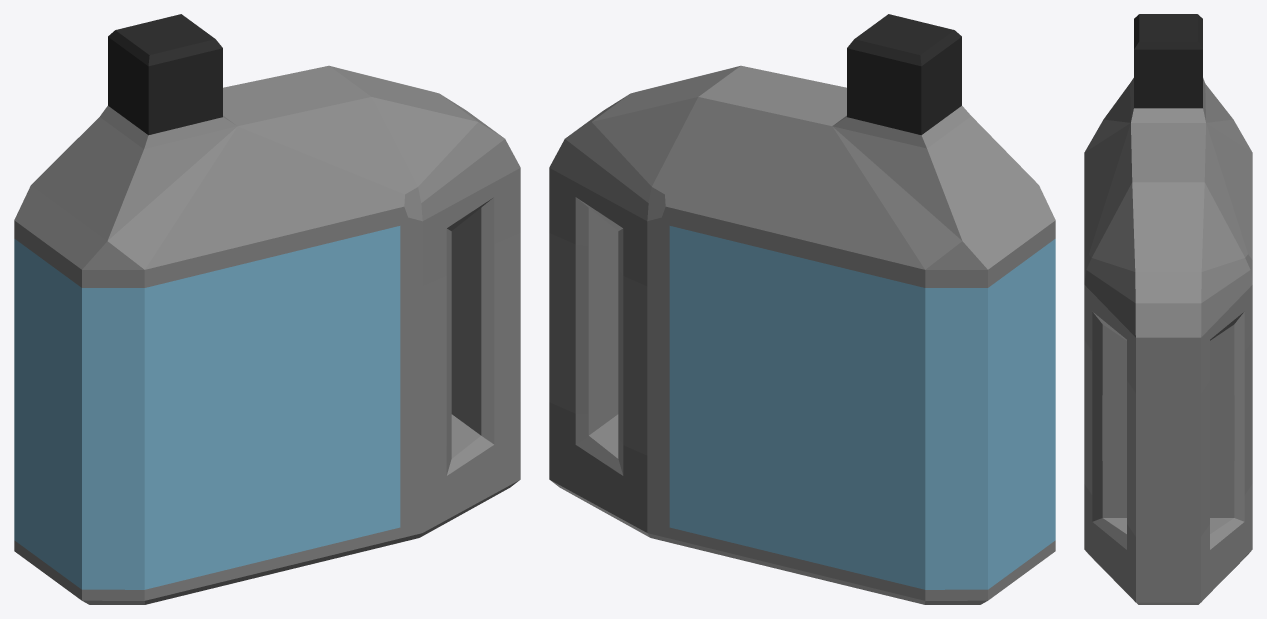
Rendered from Window Fluid Blue.fbx.
3 renders of one model, left to right at view 1: azimuth 30°, elevation 25°; view 2: azimuth 150°, elevation 25°; view 3: azimuth 270°, elevation 25°, orthographic. The views are drawn at different scales.
Visible parts, largest first — view 1: Window Fluid Blue; view 2: Window Fluid Blue; view 3: Window Fluid Blue.
Part boxes in pixels (left/top/right/bottom): Window Fluid Blue: left=14, top=14, right=520, bottom=604; Window Fluid Blue: left=549, top=14, right=1055, bottom=604; Window Fluid Blue: left=1084, top=14, right=1252, bottom=604.
Size of the model in its own units: 37.88 by 41.51 by 14.36.
Materials: 1 (1 with a texture image).
